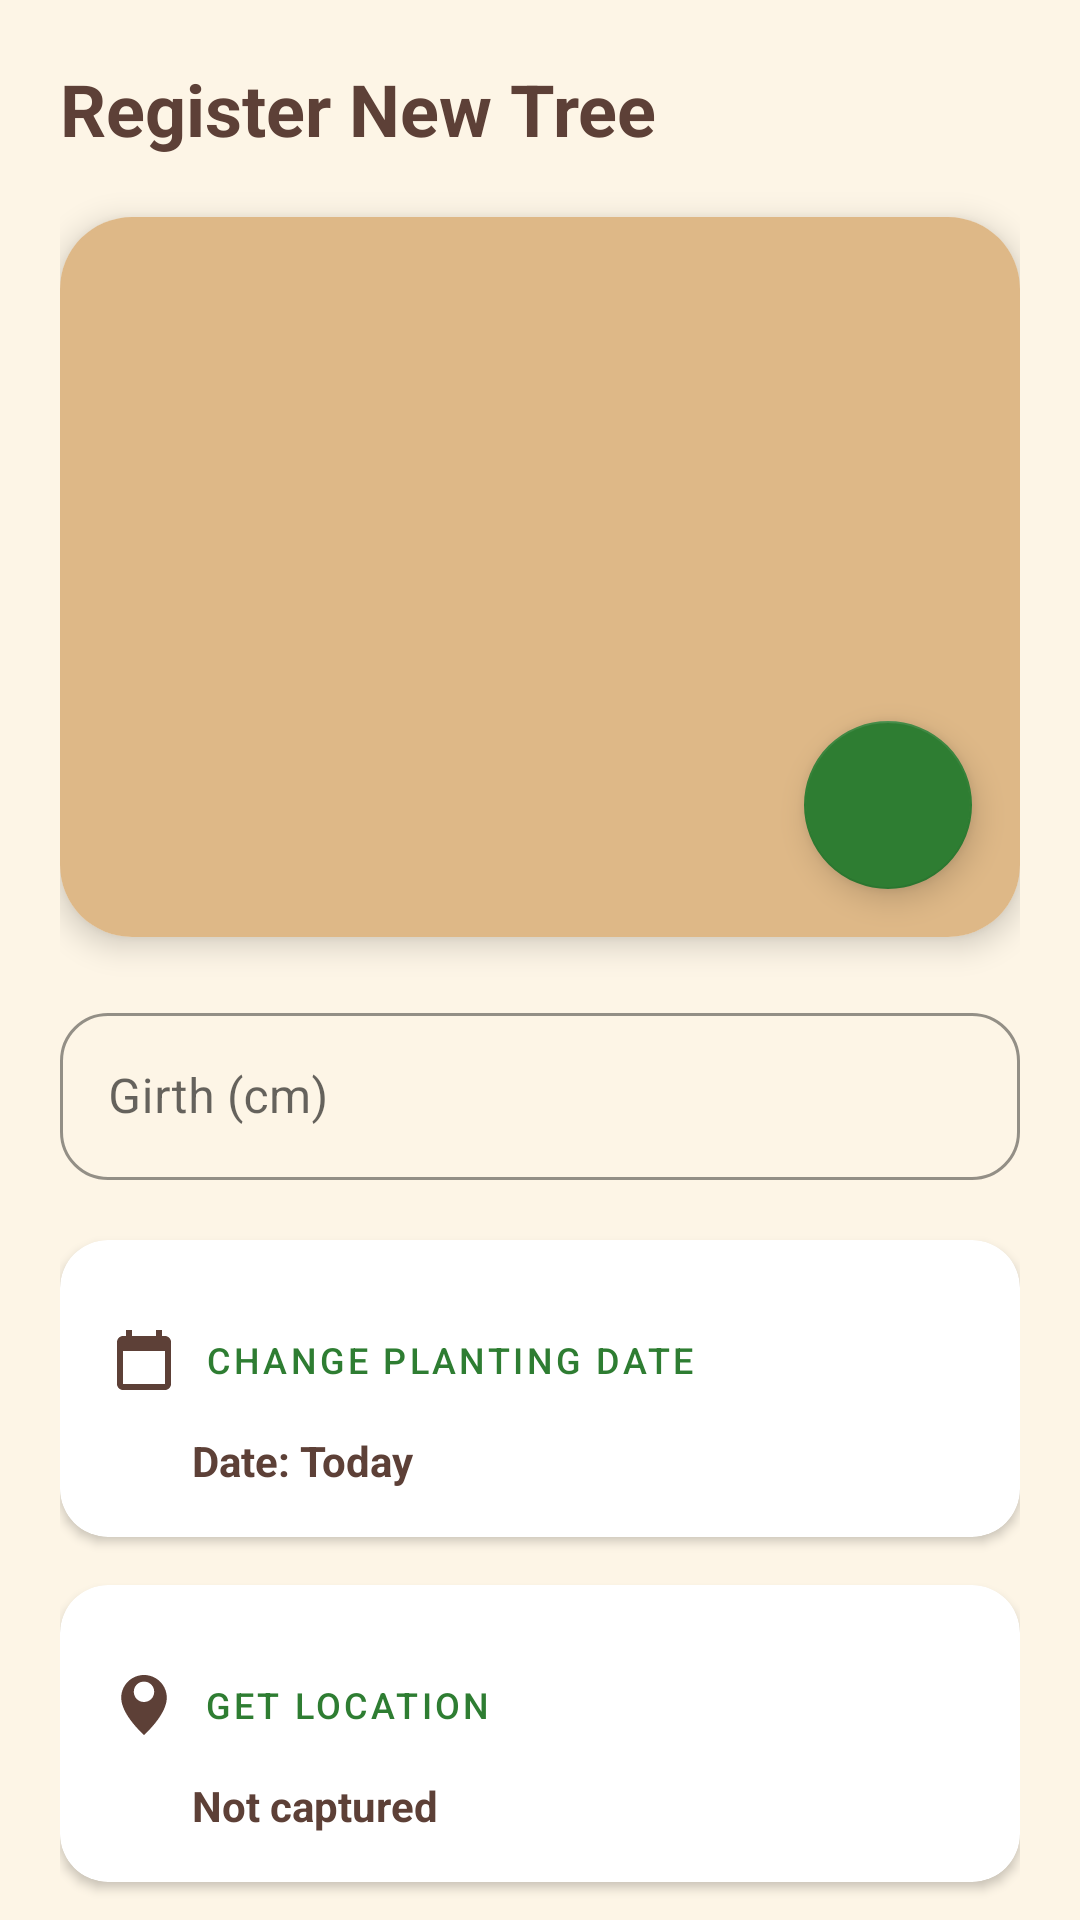

Where icons sit on this 1080 x 1920 app screen, as (x1, y1, x2, y2):
calendar: (117, 1330, 171, 1390)
